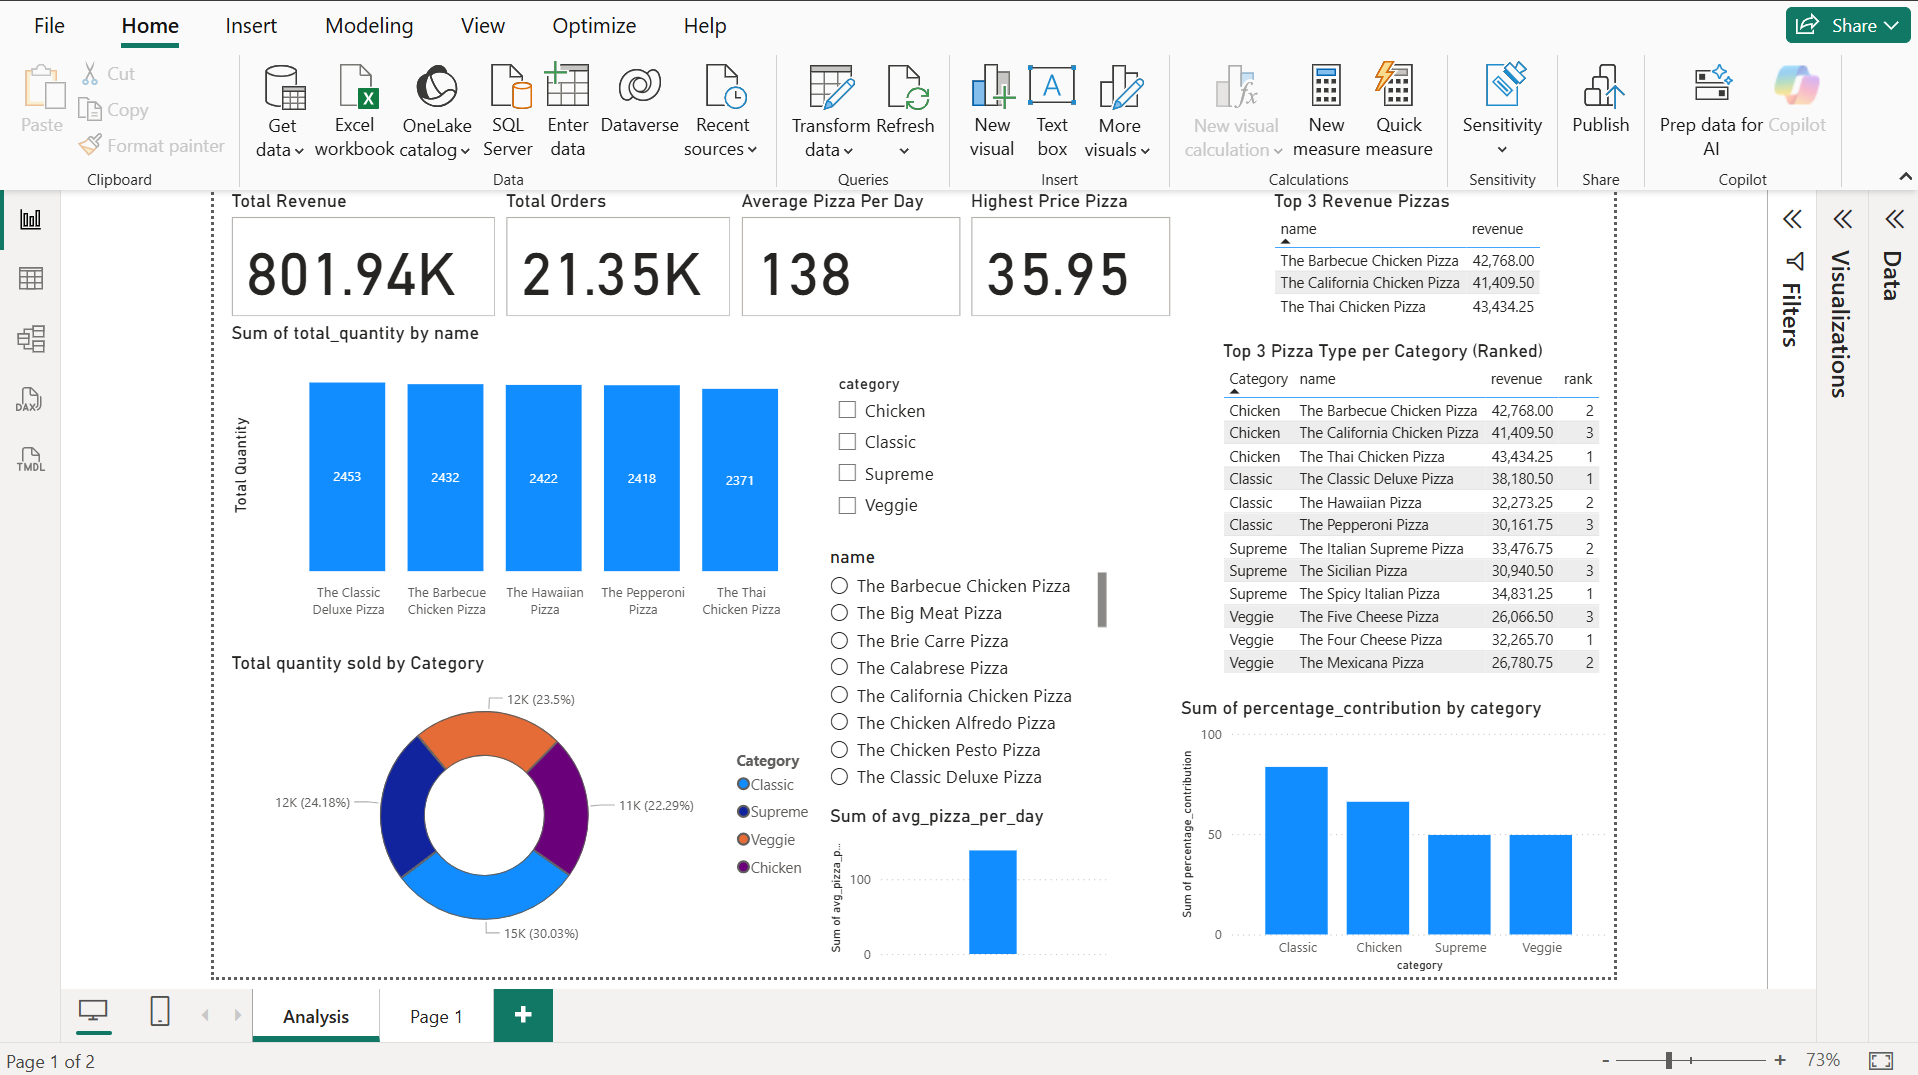

Layout of this report page (visuals, bound fields, positions):
{"tool":"powerbi","page":{"name":"Analysis","canvas":[1280,720],"ordinal":0},"visuals":[{"type":"cardVisual","title":"Total Revenue","fields":{"Data":["Sum(total_revenue.total_revenue)"]},"box":[10.6,0,251.4,121.1],"z":0},{"type":"cardVisual","title":"Total Orders","fields":{"Data":["Sum(total_orders.total_orders)"]},"box":[262,0,215,121.1],"z":1000},{"type":"cardVisual","title":"Highest Price Pizza","fields":{"Data":["Sum(high_prize_pizza.price)"]},"box":[687.4,0,192.3,121.1],"z":2000},{"type":"columnChart","fields":{"Category":["top5_order_pizza_type.name"],"Y":["Sum(top5_order_pizza_type.total_quantity)"]},"box":[10.6,121.1,548.1,278.6],"z":3000},{"type":"tableEx","title":"Top 3 Revenue Pizzas","fields":{"Values":["top3_revenue_pizza_type.name","top3_revenue_pizza_type.revenue"]},"box":[964.5,0,296.8,163.5],"z":4000},{"type":"tableEx","title":"Top 3 Pizza Type per Category (Ranked)","fields":{"Values":["top3_pizzatype_per_category_rev.Category","top3_pizzatype_per_category_rev.name","top3_pizzatype_per_category_rev.revenue","top3_pizzatype_per_category_rev.rank"]},"box":[917.6,137.8,361.9,325.6],"z":5000},{"type":"donutChart","title":"Total quantity sold by Category","fields":{"Category":["quantity_per_pizza_category.Category"],"Y":["Sum(quantity_per_pizza_category.Total_quantity)"]},"box":[11,423,548,279],"z":6000},{"type":"cardVisual","title":"Average Pizza Per Day","fields":{"Data":["Sum(avg_pizza_per_day.avg_pizza_per_day)"]},"box":[477,0,210.5,121.1],"z":7000},{"type":"slicer","fields":{"Values":["pizza_types.category"]},"box":[558.7,163.5,148.4,156],"z":8000},{"type":"listSlicer","fields":{"Values":["pizza_types.name"]},"box":[558.7,325.6,263.5,236.2],"z":9000},{"type":"clusteredColumnChart","fields":{"Y":["Sum(percent_contribution.percentage_contribution)"],"Category":["pizza_types.category"]},"box":[879.8,463.3,399.8,255.9],"z":10000},{"type":"clusteredColumnChart","fields":{"Y":["Sum(avg_pizza_per_day.avg_pizza_per_day)"]},"box":[559,562,263,150],"z":10001}]}

Visuals, with their boxes on the page's 1280x720 design canvas (x1, y1, x2, y2). These are canvas units, not pixel positions in the 1918x1075 screenshot, which may show the page scaled, cropped or inside an application window:
"Total Revenue" cardVisual: 11,0,262,121
"Total Orders" cardVisual: 262,0,477,121
"Highest Price Pizza" cardVisual: 687,0,880,121
columnChart - top5_order_pizza_type.name x Sum(top5_order_pizza_type.total_quantity): 11,121,559,400
"Top 3 Revenue Pizzas" tableEx: 964,0,1261,164
"Top 3 Pizza Type per Category (Ranked)" tableEx: 918,138,1280,463
"Total quantity sold by Category" donutChart: 11,423,559,702
"Average Pizza Per Day" cardVisual: 477,0,688,121
slicer - pizza_types.category: 559,164,707,320
listSlicer - pizza_types.name: 559,326,822,562
clusteredColumnChart - Sum(percent_contribution.percentage_contribution) x pizza_types.category: 880,463,1280,719
clusteredColumnChart - Sum(avg_pizza_per_day.avg_pizza_per_day): 559,562,822,712
